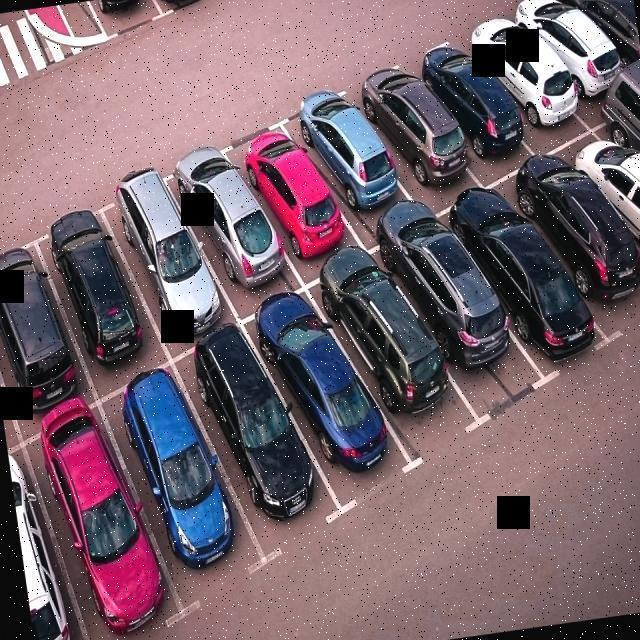space-occupied: (248, 280, 404, 504), (28, 408, 171, 640), (179, 313, 323, 543), (448, 180, 602, 384), (104, 375, 240, 593), (394, 213, 534, 421), (326, 246, 462, 456), (506, 145, 640, 347), (47, 198, 147, 390), (116, 170, 214, 348), (179, 133, 275, 311), (0, 232, 79, 431), (302, 83, 396, 245), (241, 116, 337, 274), (368, 61, 472, 205), (469, 0, 568, 141), (425, 30, 515, 180), (568, 123, 640, 299), (6, 440, 67, 640), (528, 0, 618, 121), (560, 1, 640, 83)
